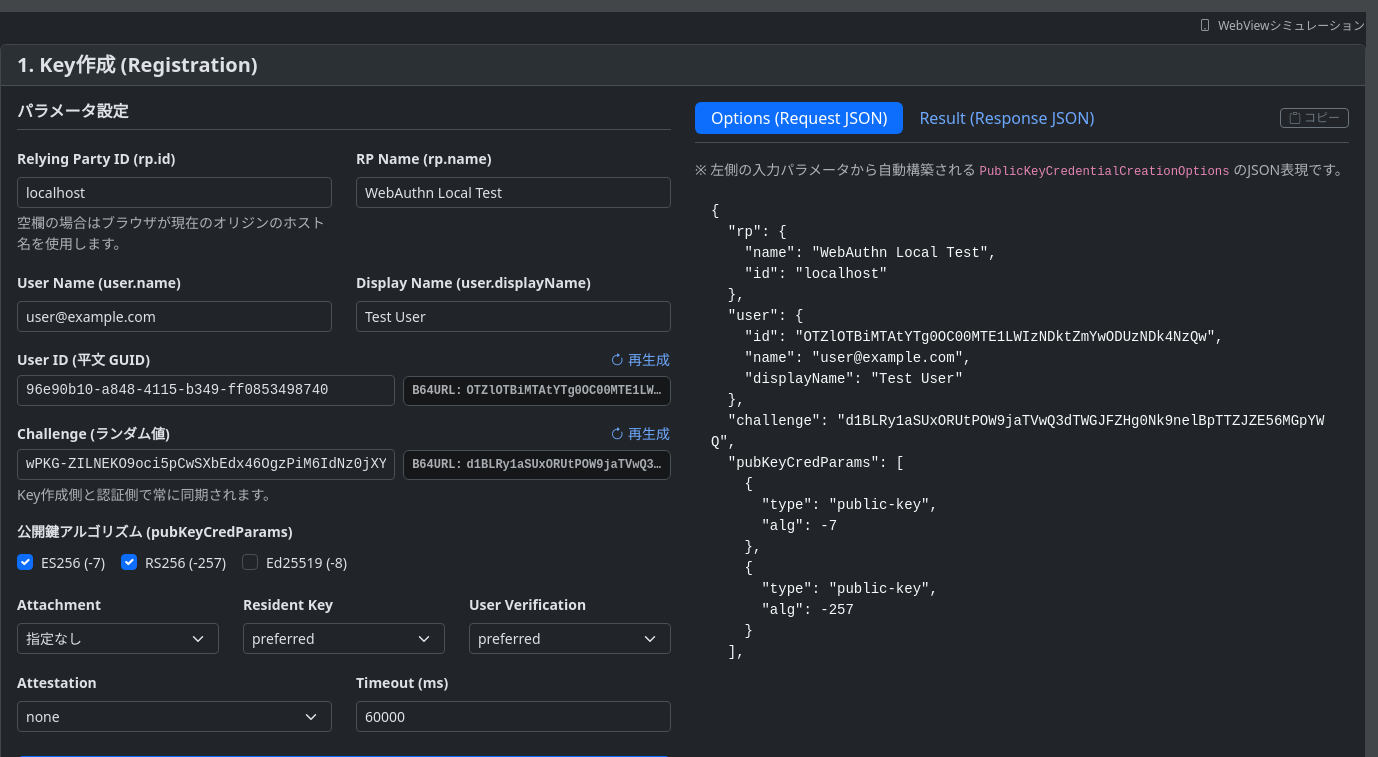
Test case: DevelopFido.vue › displays Base64URL label side-by-side and updates on input
Replace the text in the field with id "regUserId" with "test-user-guid" at (206, 391), box [17,375,395,406]
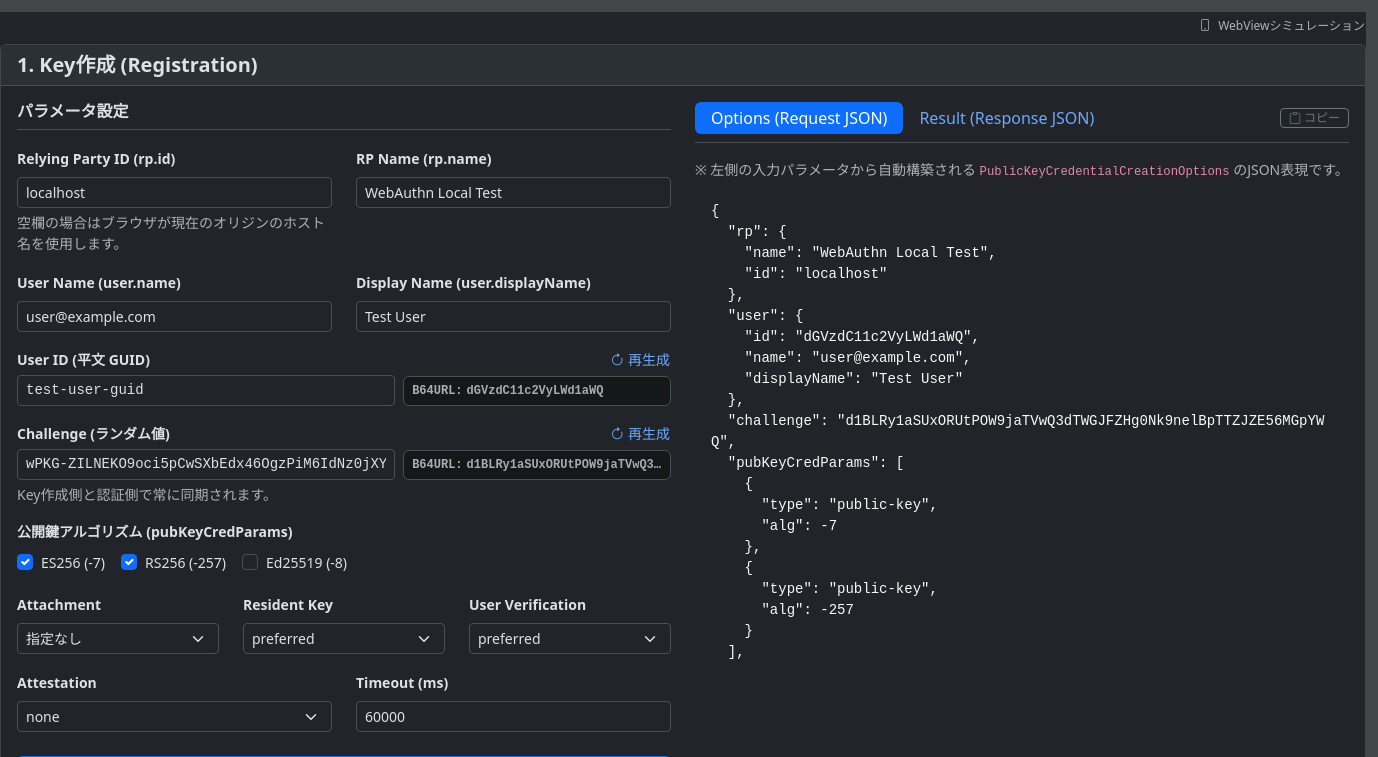
Expected: the text "dGVzdC11c2VyLWd1aWQ" is shown, [467,384,603,398]
